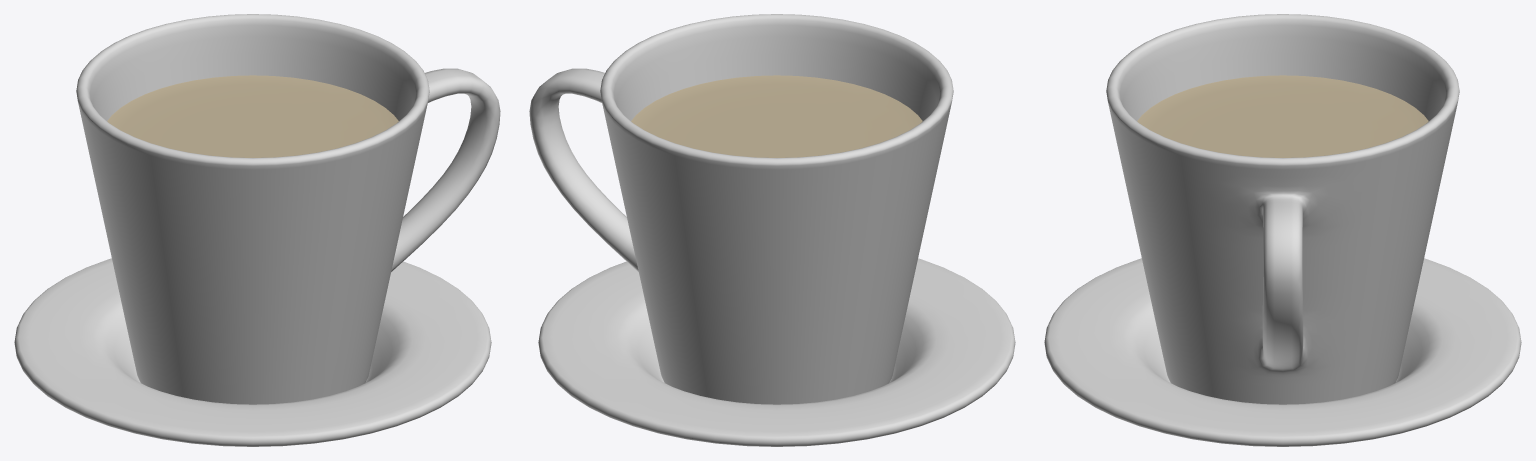
File: Coffee Cup.fbx
3 views of the same model, side by side, from view 1: azimuth 30°, elevation 25°; view 2: azimuth 150°, elevation 25°; view 3: azimuth 270°, elevation 25° (orthographic).
Parts seen in each view (by area): view 1: coffe_cup_2, plate_2, coffee_2; view 2: coffe_cup_2, plate_2, coffee_2; view 3: coffe_cup_2, plate_2, coffee_2.
Boxes of the visible parts, left/top/right/bottom form: coffe_cup_2: left=76, top=14, right=500, bottom=404; plate_2: left=14, top=258, right=491, bottom=446; coffee_2: left=107, top=75, right=398, bottom=157; coffe_cup_2: left=529, top=14, right=953, bottom=404; plate_2: left=538, top=258, right=1015, bottom=446; coffee_2: left=631, top=75, right=922, bottom=157; coffe_cup_2: left=1106, top=14, right=1459, bottom=404; plate_2: left=1044, top=258, right=1521, bottom=446; coffee_2: left=1137, top=75, right=1428, bottom=157.
Bounding box in the file's own units: 12.62 × 8.28 × 11.64.
